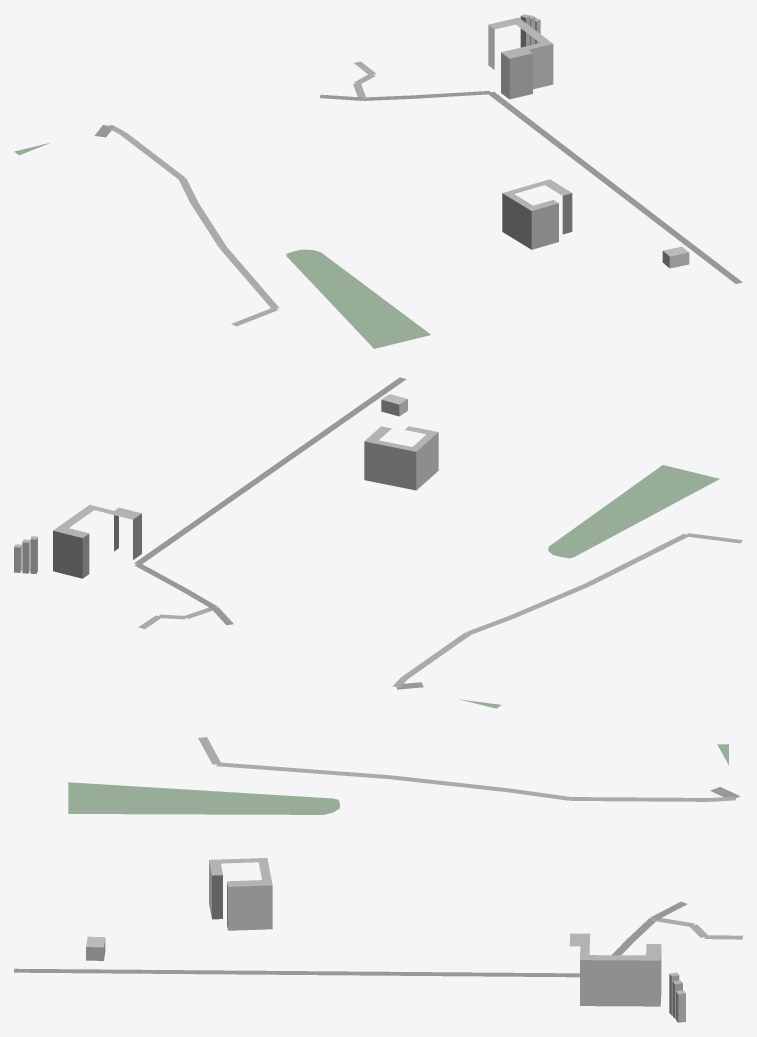
The picture shows the model from 3 angles, top to bottom: view 1: azimuth 30°, elevation 25°; view 2: azimuth 150°, elevation 25°; view 3: azimuth 270°, elevation 25°; orthographic projection. The views are drawn at different scales.
Bounding box in the file's own units: 512 × 38.47 × 552.
